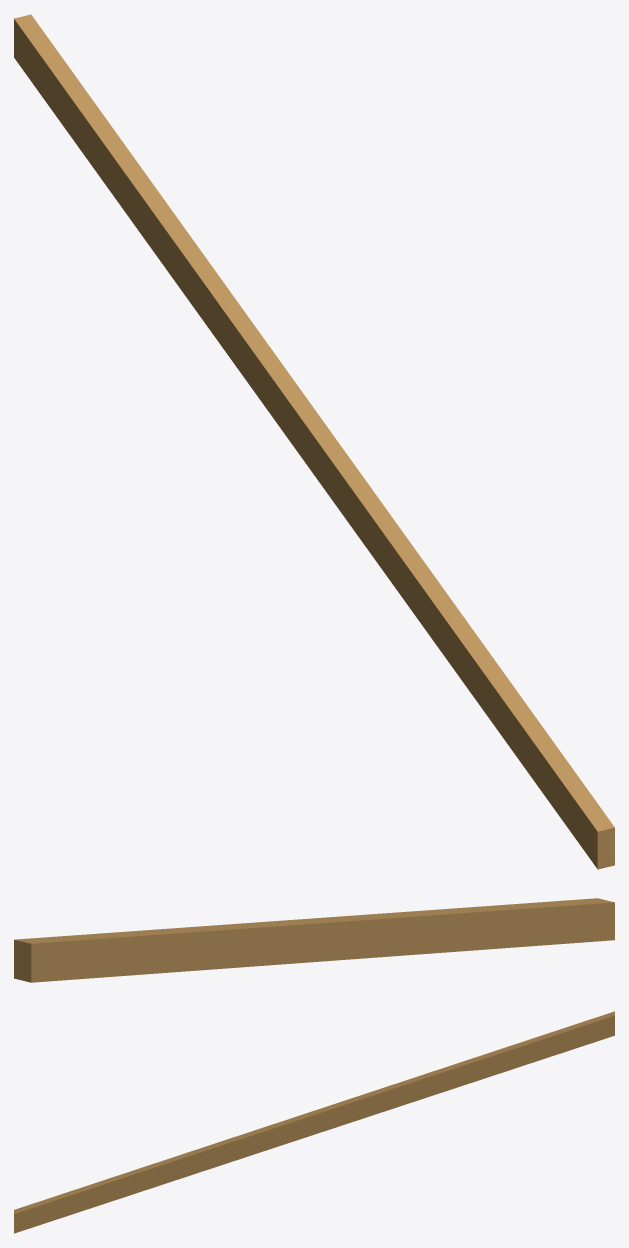
The picture shows the model from 3 angles, top to bottom: view 1: azimuth 30°, elevation 25°; view 2: azimuth 150°, elevation 25°; view 3: azimuth 270°, elevation 25°; orthographic projection. The views are drawn at different scales.
Parts seen in each view (by area): view 1: L1-3-S2-311-M03; view 2: L1-3-S2-311-M03; view 3: L1-3-S2-311-M03.
Part boxes in pixels (box(x1,y1,x2,y2)): L1-3-S2-311-M03: box(14, 14, 614, 869); L1-3-S2-311-M03: box(14, 898, 614, 982); L1-3-S2-311-M03: box(14, 1011, 614, 1233).
Bounding box in the file's own units: 0.045 × 1.06 × 2.64.
